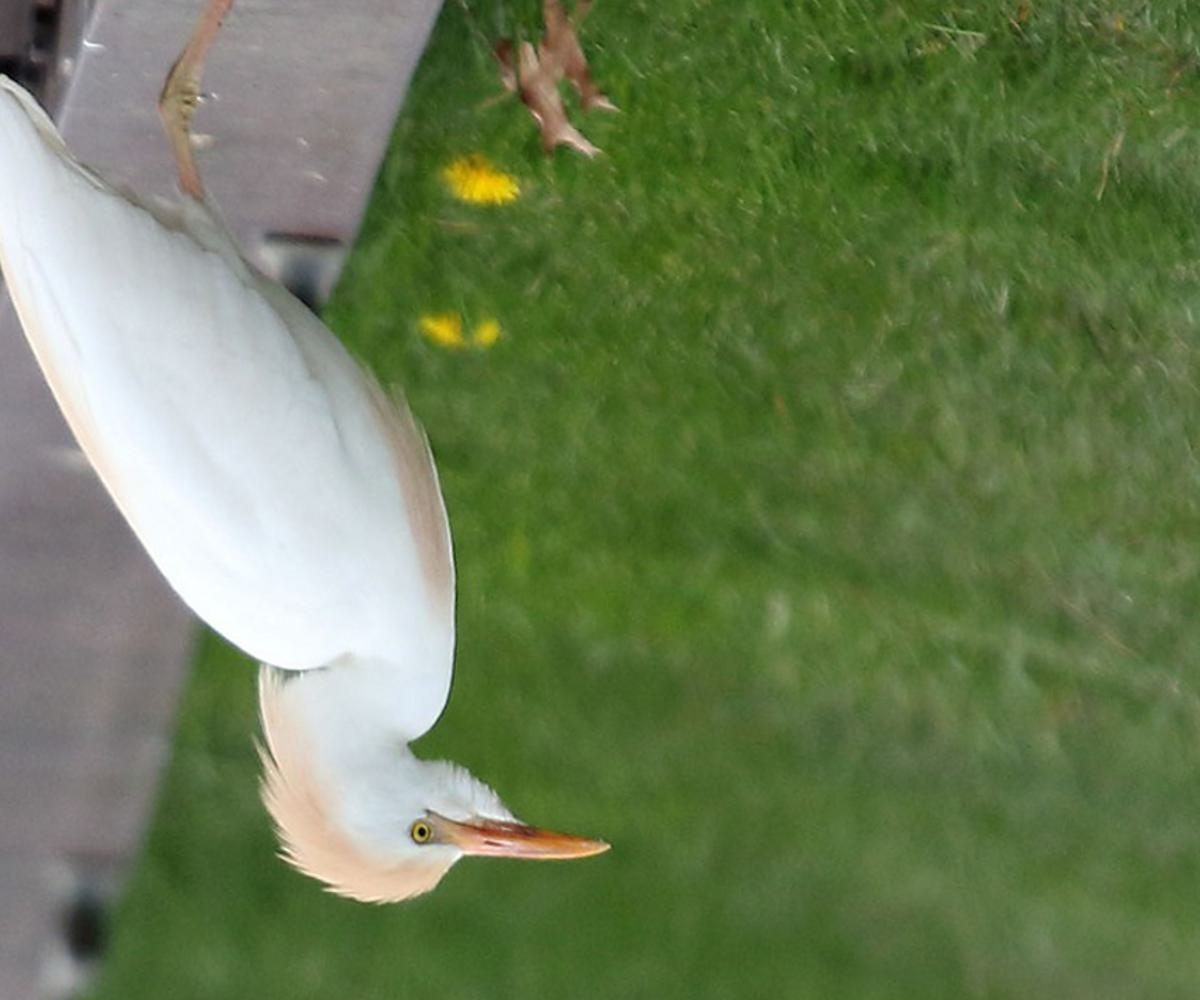egret: (1, 148, 635, 910)
